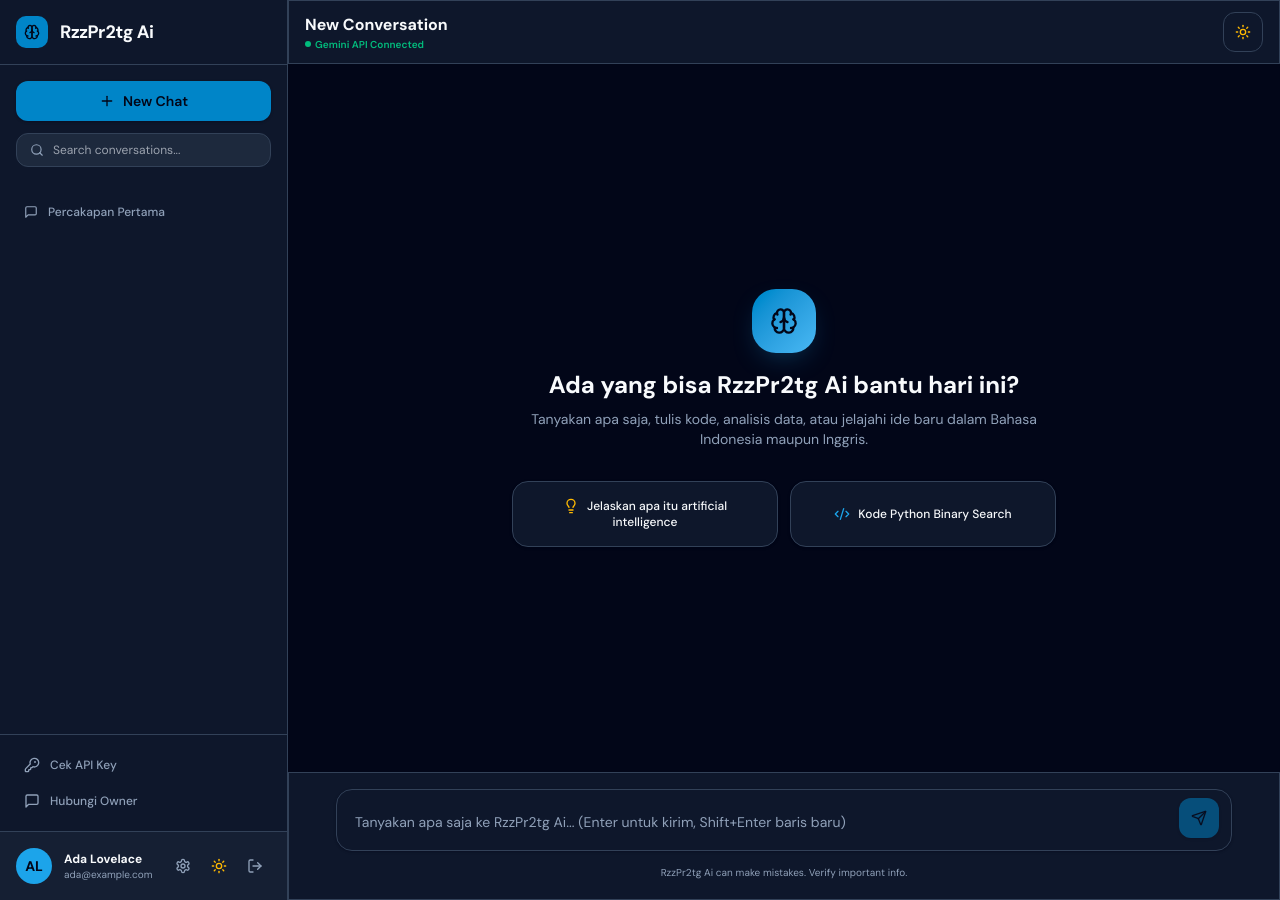
Test: ChatPage conversation history › loads a persisted conversation's messages when it is selected
The image size is (1280, 900).
Click the button "Percakapan Pertama": coordinates (132, 212) [24,204,241,220]
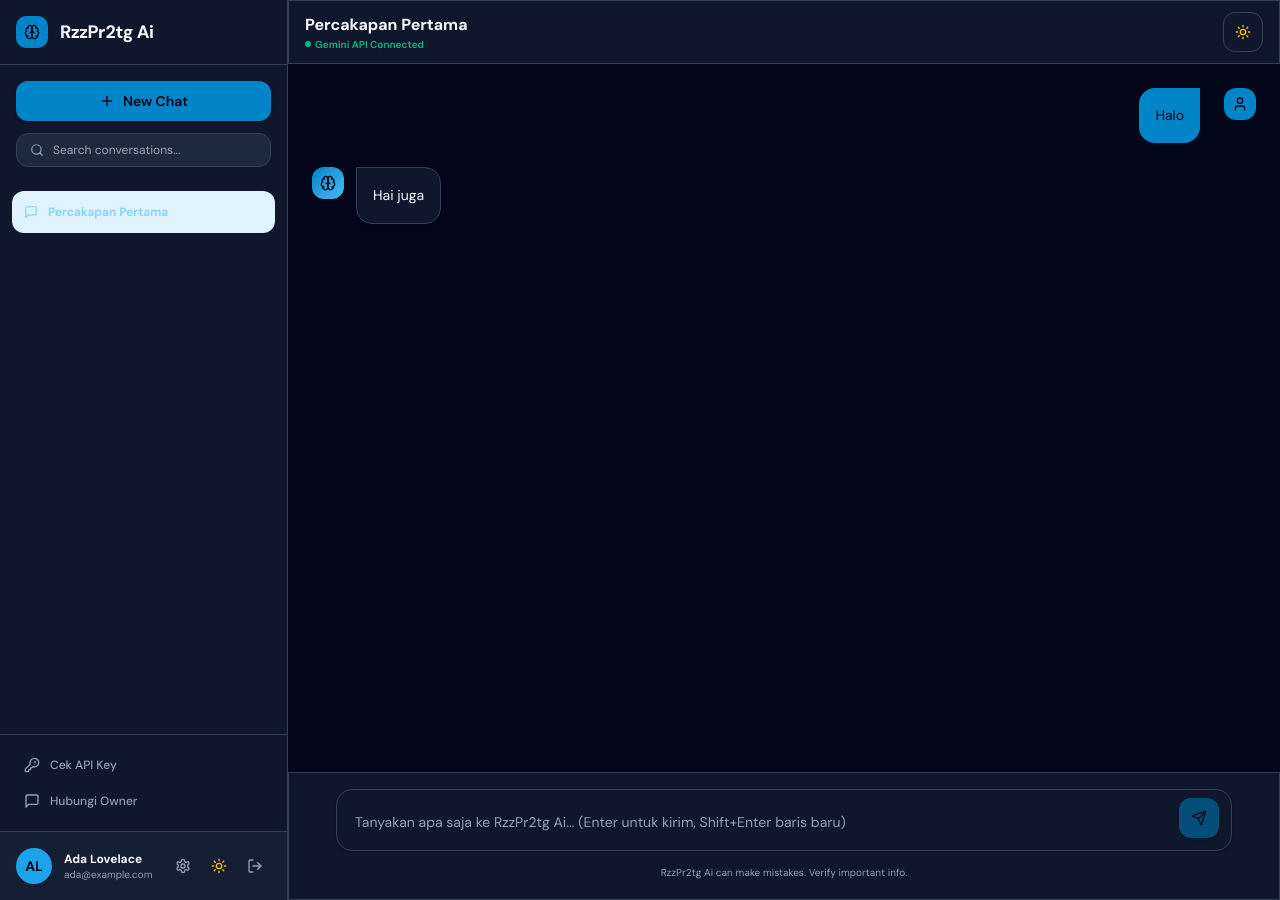
Expected: the text "Halo" is shown, [1155,104,1184,127]
Expected: the text "Hai juga" is shown, [373,184,424,207]
